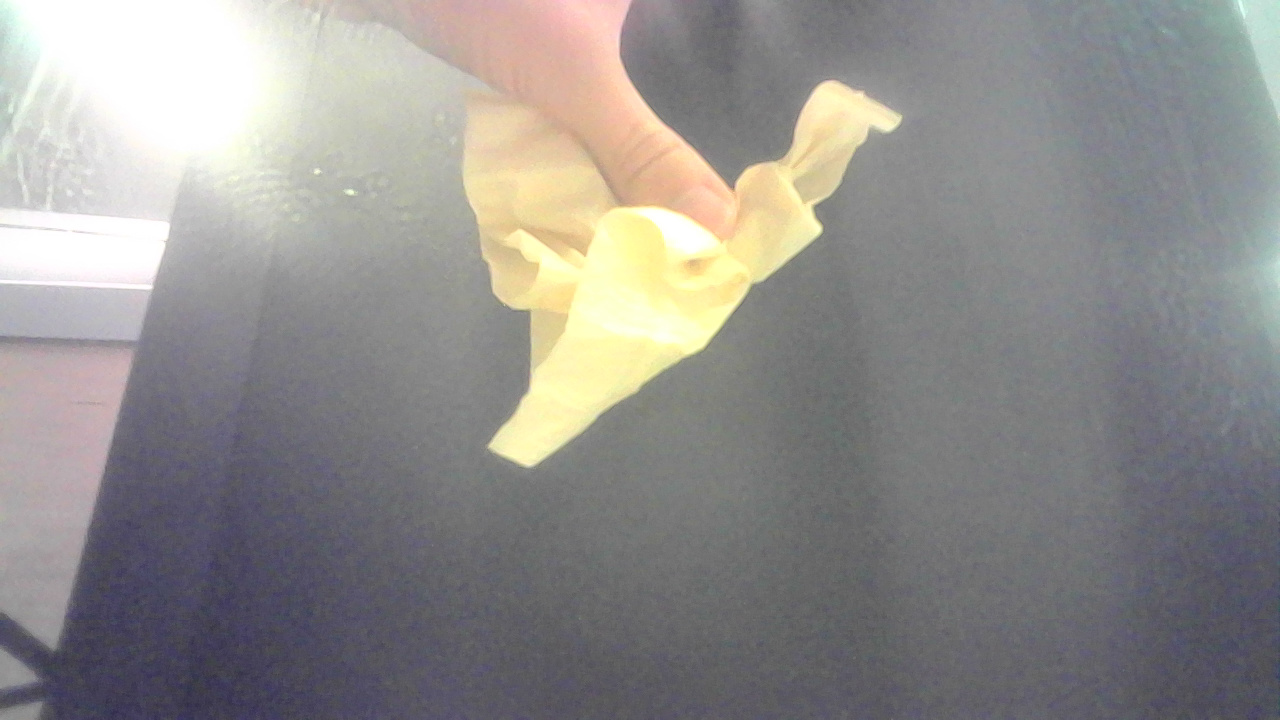Paper_Recycling: (460, 73, 902, 473)
